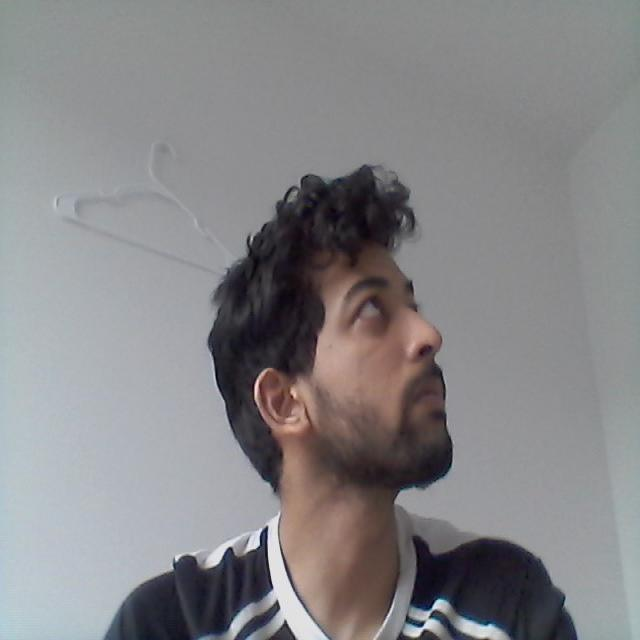nocap: (151, 164, 489, 424)
